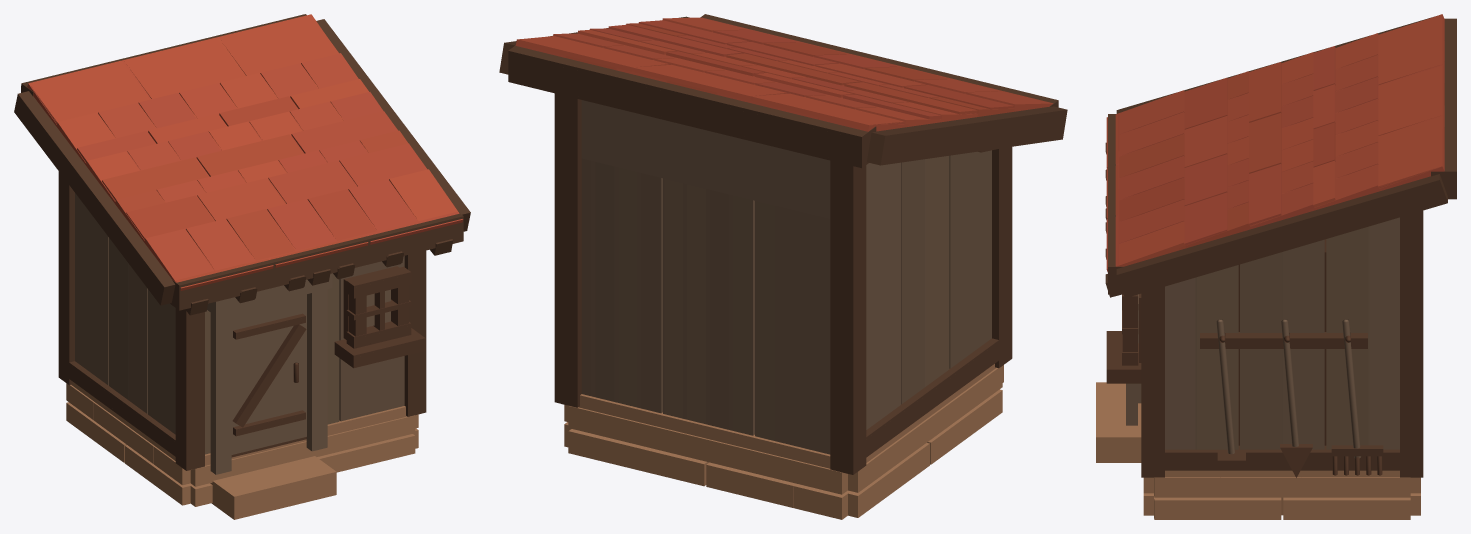
The model's file is prop_tool_shed_a.glb.
3 views of the same model, side by side, from view 1: azimuth 30°, elevation 25°; view 2: azimuth 150°, elevation 25°; view 3: azimuth 270°, elevation 25° (orthographic). The views are drawn at different scales.
Visible parts, largest first — view 1: prop_tool_shed_a_LOD0_shed, prop_tool_shed_a_LOD2_shed, prop_tool_shed_a_LOD1_shed; view 2: prop_tool_shed_a_LOD0_shed, prop_tool_shed_a_LOD2_shed, prop_tool_shed_a_LOD1_shed; view 3: prop_tool_shed_a_LOD1_shed, prop_tool_shed_a_LOD0_shed, prop_tool_shed_a_LOD2_shed.
Part boxes in pixels (bbox=[...]): prop_tool_shed_a_LOD0_shed: bbox=[21, 14, 469, 519]; prop_tool_shed_a_LOD2_shed: bbox=[21, 14, 467, 519]; prop_tool_shed_a_LOD1_shed: bbox=[14, 14, 470, 506]; prop_tool_shed_a_LOD0_shed: bbox=[500, 17, 1058, 518]; prop_tool_shed_a_LOD2_shed: bbox=[499, 14, 1058, 519]; prop_tool_shed_a_LOD1_shed: bbox=[504, 16, 1067, 517]; prop_tool_shed_a_LOD1_shed: bbox=[1105, 14, 1456, 497]; prop_tool_shed_a_LOD0_shed: bbox=[1105, 14, 1456, 519]; prop_tool_shed_a_LOD2_shed: bbox=[1096, 14, 1456, 519].
Size of the model in its own units: 3.32 by 3.45 by 3.07.
